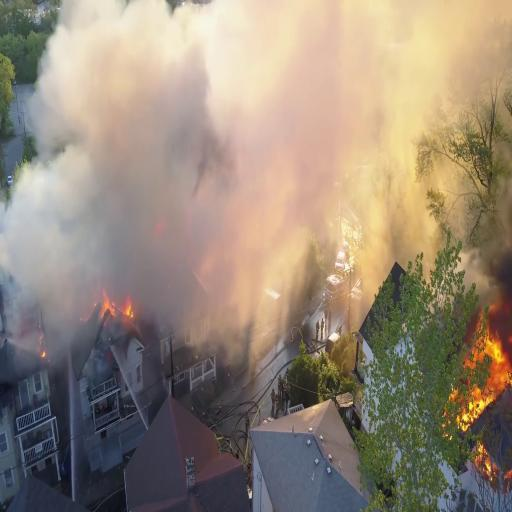fire: (457, 294, 512, 438)
smoke: (31, 77, 244, 305)
